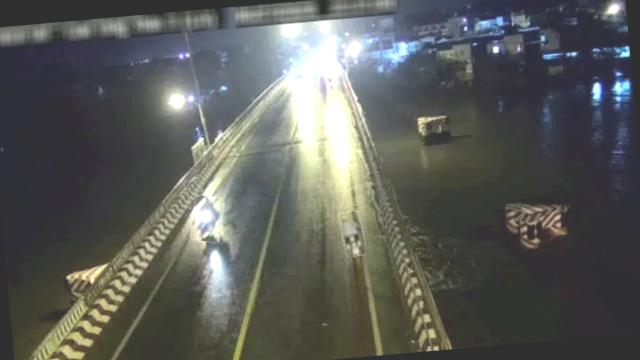Bike: (188, 194, 226, 244), (339, 210, 366, 258)
